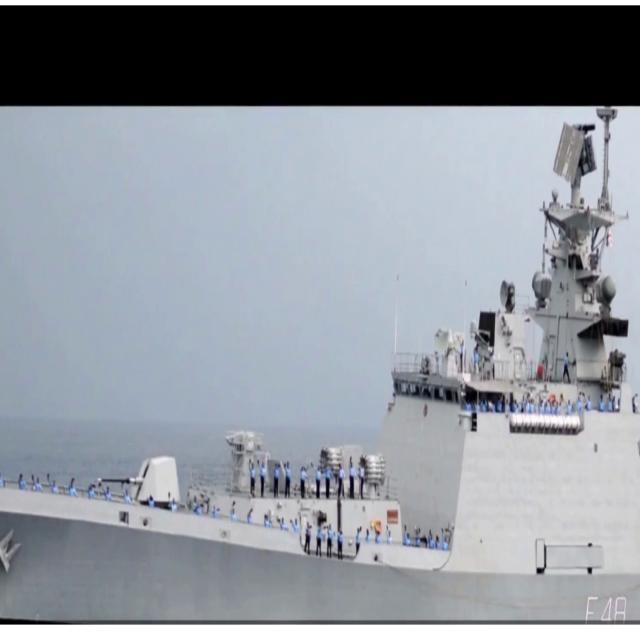OCR: (578, 588, 622, 624)
